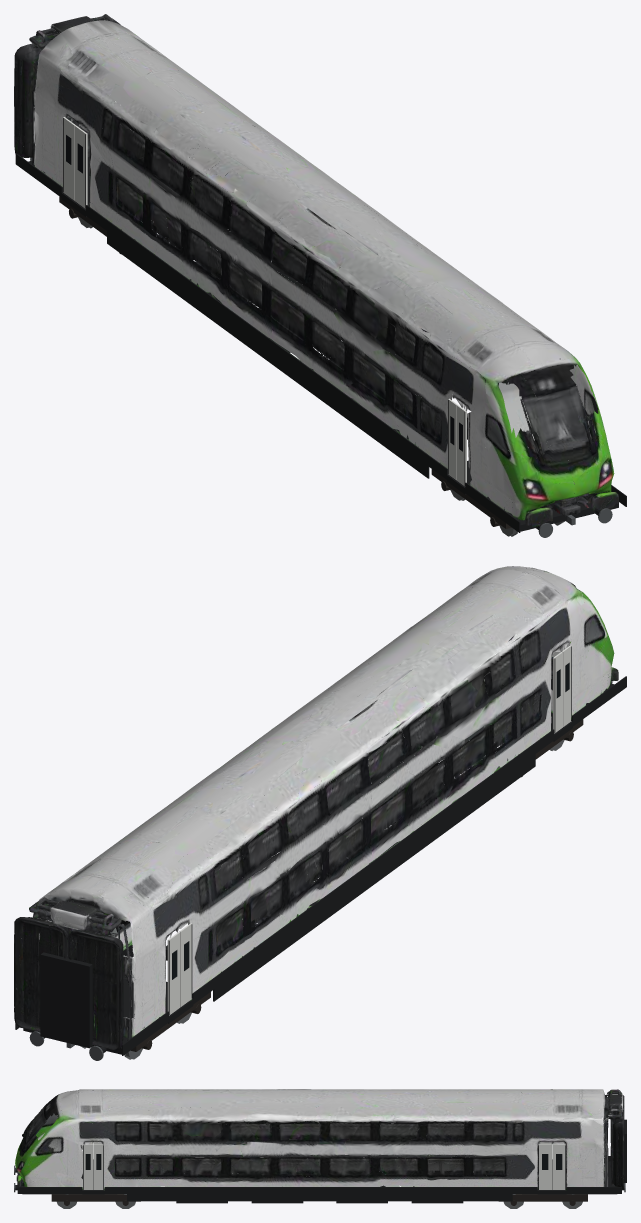
The model's file is edo_m.glb.
3 renders of one model, top to bottom at view 1: azimuth 30°, elevation 25°; view 2: azimuth 150°, elevation 25°; view 3: azimuth 270°, elevation 25°, orthographic. The views are drawn at different scales.
Parts seen in each view (by area): view 1: edo_kori, edo_helma-1, Door_L5_m62, Door_L6_p62; view 2: edo_kori, edo_helma-1, edo_palje1, Door_L6_p62, Door_L5_m62, Door_L2_p47, edo_helmap-1-110.1; view 3: edo_kori, edo_helma1, Bogie_F_side1, Bogie_R_side1, Door_R8_p62, Door_R7_m62, edo_helmap-1110.1, Door_R3_m47, Door_R4_p47, edo_helmap1110.5, edo_frame1, edo_palje1.
Boxes of the visible parts, x1=… form: edo_kori: x1=14, y1=14, x2=618, y2=526; edo_helma-1: x1=107, y1=220, x2=429, y2=478; Door_L5_m62: x1=74, y1=125, x2=87, y2=208; Door_L6_p62: x1=63, y1=117, x2=75, y2=200; edo_kori: x1=14, y1=566, x2=618, y2=1050; edo_helma-1: x1=213, y1=743, x2=535, y2=1001; edo_palje1: x1=40, y1=952, x2=92, y2=1048; Door_L6_p62: x1=167, y1=932, x2=180, y2=1015; Door_L5_m62: x1=179, y1=923, x2=191, y2=1007; Door_L2_p47: x1=553, y1=652, x2=562, y2=733; edo_helmap-1-110.1: x1=572, y1=676, x2=626, y2=726; edo_kori: x1=15, y1=1089, x2=624, y2=1190; edo_helma1: x1=127, y1=1187, x2=512, y2=1201; Bogie_F_side1: x1=51, y1=1194, x2=140, y2=1201; Bogie_R_side1: x1=499, y1=1194, x2=587, y2=1201; Door_R8_p62: x1=552, y1=1144, x2=565, y2=1189; Door_R7_m62: x1=538, y1=1144, x2=551, y2=1189; edo_helmap-1110.1: x1=17, y1=1187, x2=82, y2=1193; Door_R3_m47: x1=83, y1=1144, x2=93, y2=1189; Door_R4_p47: x1=93, y1=1144, x2=103, y2=1189; edo_helmap1110.5: x1=566, y1=1187, x2=621, y2=1193; edo_frame1: x1=522, y1=1161, x2=616, y2=1194; edo_palje1: x1=624, y1=1119, x2=626, y2=1182.
Bounding box in the file's own units: 3.18 × 5.06 × 26.06.
7 materials, 1 textured.
